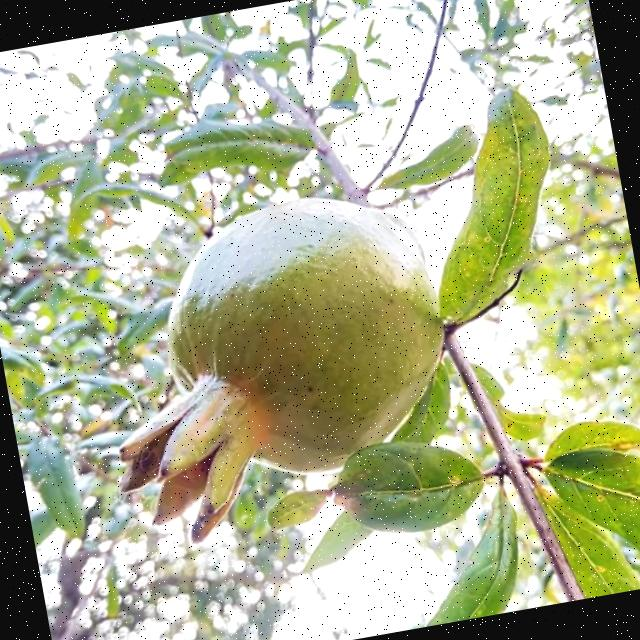Unripe: (76, 180, 475, 554)
